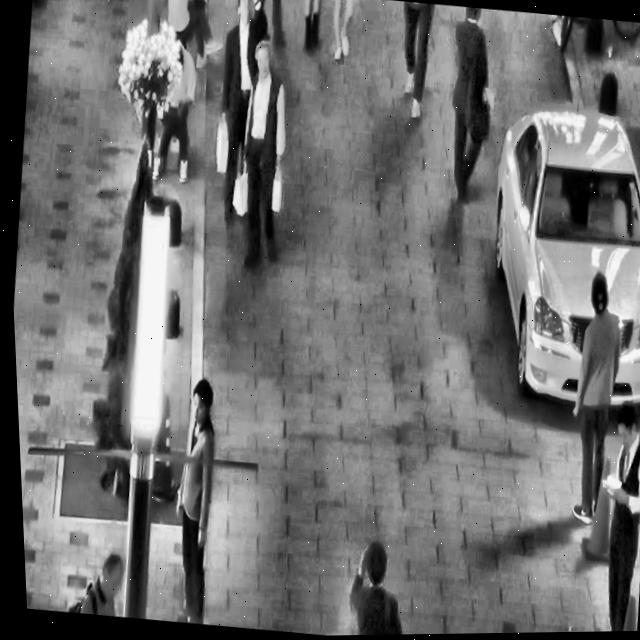light_vehicle: (462, 83, 640, 421)
